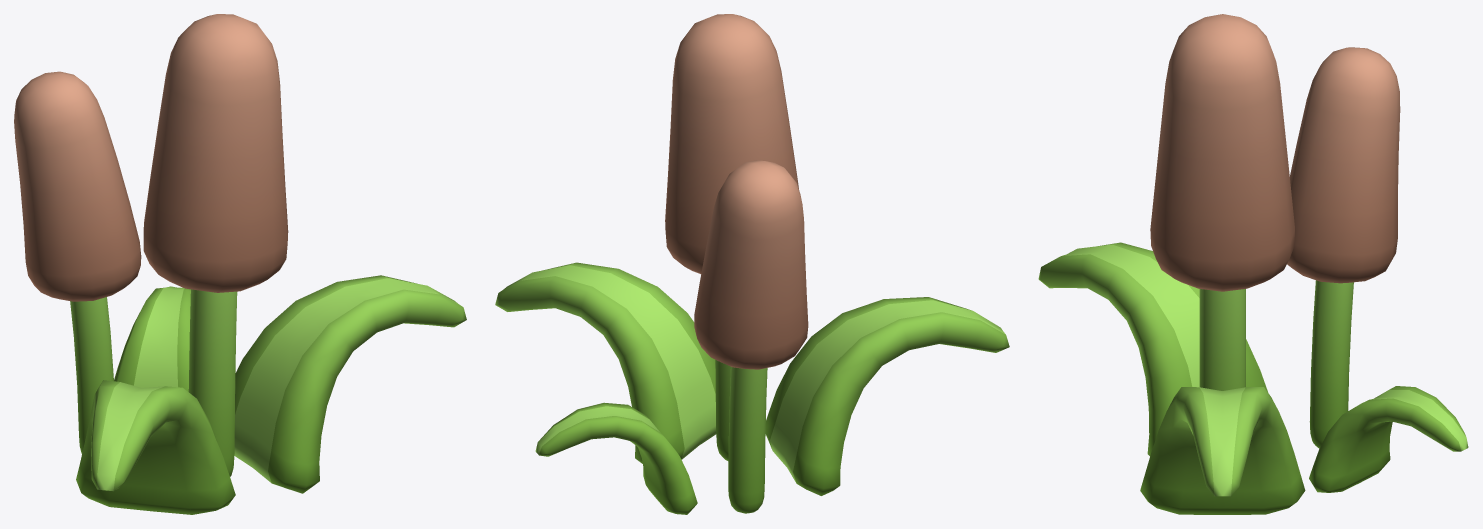
File: reeds_2.fbx
3 renders of one model, left to right at view 1: azimuth 30°, elevation 25°; view 2: azimuth 150°, elevation 25°; view 3: azimuth 270°, elevation 25°, orthographic. The views are drawn at different scales.
Parts seen in each view (by area): view 1: reeds_2; view 2: reeds_2; view 3: reeds_2.
Part boxes in pixels (bbox=[...]): reeds_2: bbox=[14, 14, 466, 514]; reeds_2: bbox=[495, 14, 1009, 514]; reeds_2: bbox=[1038, 14, 1468, 514].
Bounding box in the file's own units: 106 × 104 × 87.01.
Materials: 1 (1 with a texture image).
